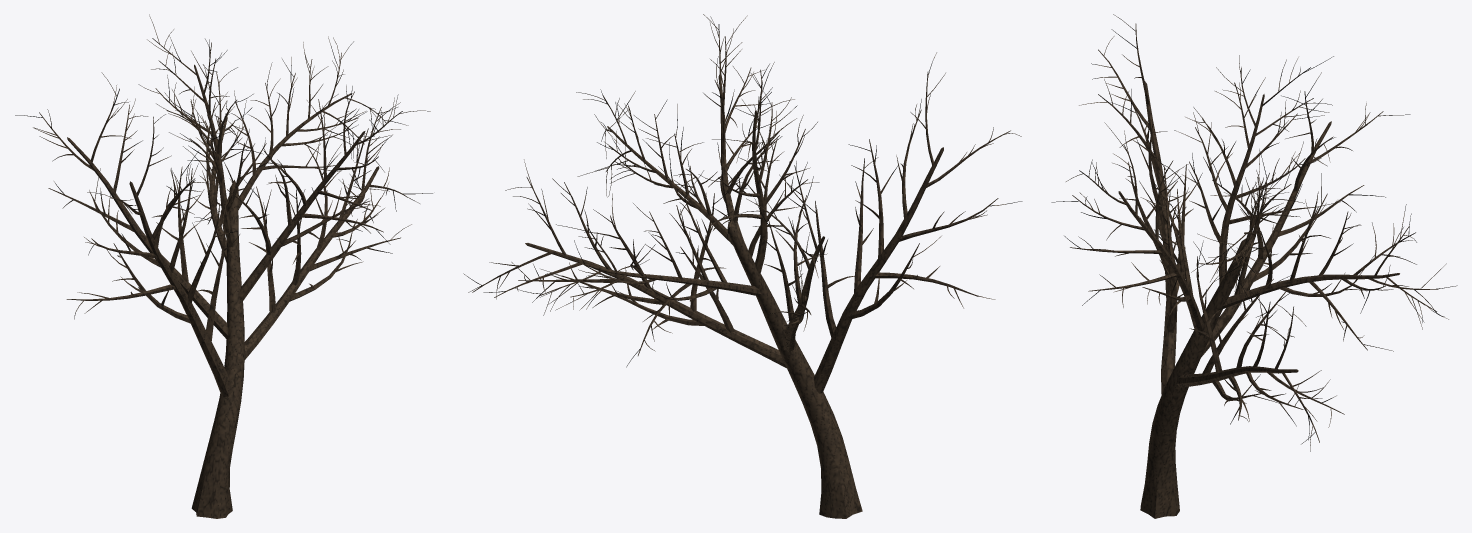
File: SM_Tree_Oak_B_Bark.glb
3 renders of one model, left to right at view 1: azimuth 30°, elevation 25°; view 2: azimuth 150°, elevation 25°; view 3: azimuth 270°, elevation 25°, orthographic. The views are drawn at different scales.
Visible parts, largest first — view 1: SM_Tree_Oak_B_Bark; view 2: SM_Tree_Oak_B_Bark; view 3: SM_Tree_Oak_B_Bark.
Part boxes in pixels (left/top/right/bottom): SM_Tree_Oak_B_Bark: left=15, top=14, right=432, bottom=518; SM_Tree_Oak_B_Bark: left=463, top=14, right=1022, bottom=518; SM_Tree_Oak_B_Bark: left=1051, top=14, right=1457, bottom=518.
Bounding box in the file's own units: 9.59 × 9.25 × 7.25.
1 material, 1 textured.
